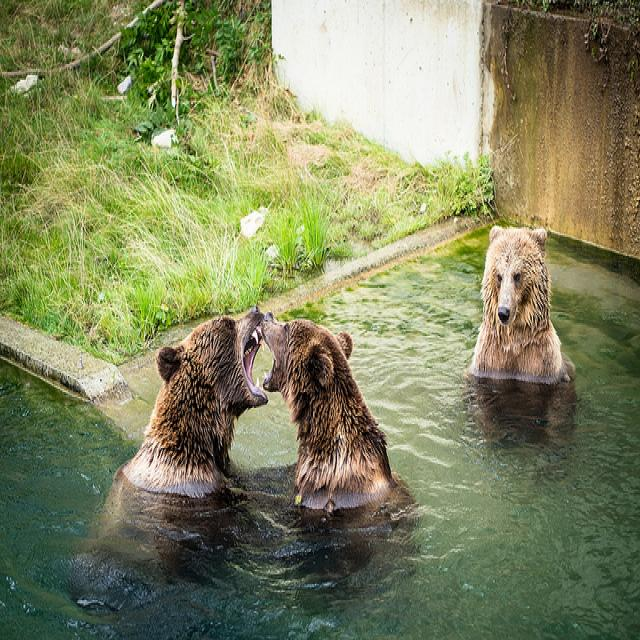Bear: (259, 305, 405, 517), (113, 304, 266, 505), (467, 217, 570, 382)
